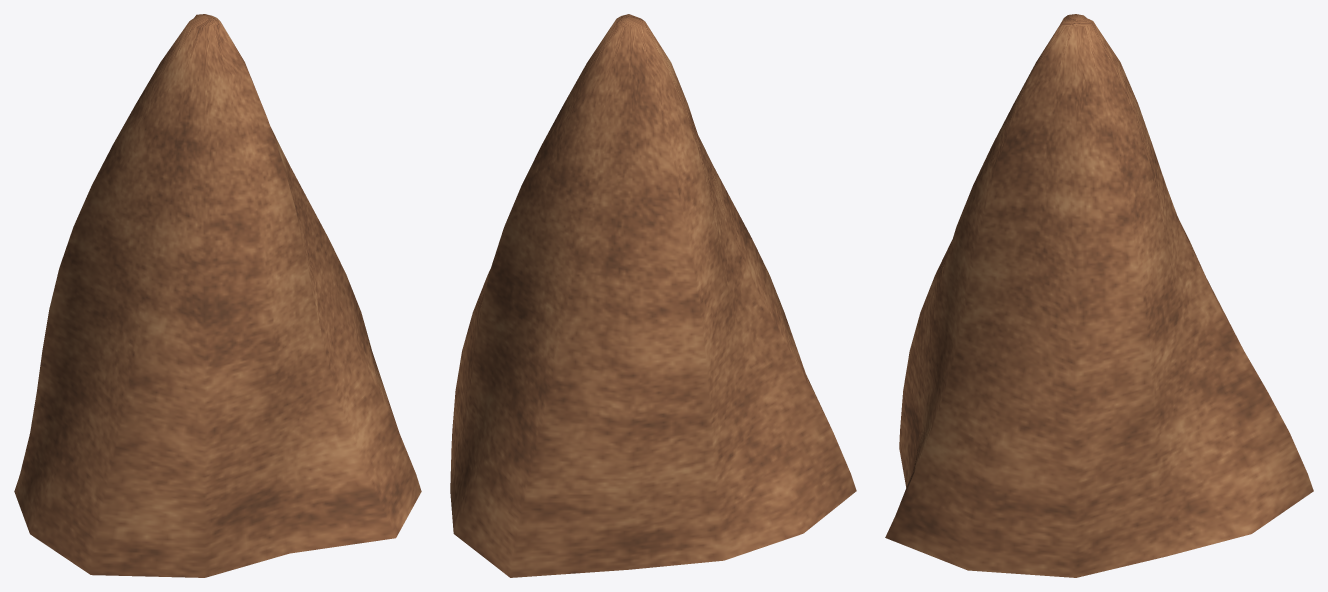
Rendered from rock_savanna_termite_a.glb.
The picture shows the model from 3 angles, left to right: view 1: azimuth 30°, elevation 25°; view 2: azimuth 150°, elevation 25°; view 3: azimuth 270°, elevation 25°; orthographic projection.
Visible parts, largest first — view 1: rock_savanna_termite_a; view 2: rock_savanna_termite_a; view 3: rock_savanna_termite_a.
Boxes of the visible parts, x1,y1,x2,y2 form: rock_savanna_termite_a: (14, 14, 421, 577); rock_savanna_termite_a: (450, 14, 856, 577); rock_savanna_termite_a: (885, 14, 1313, 577).
Bounding box in the file's own units: 2.12 × 2.72 × 2.23.
Materials: 1 (1 with a texture image).
